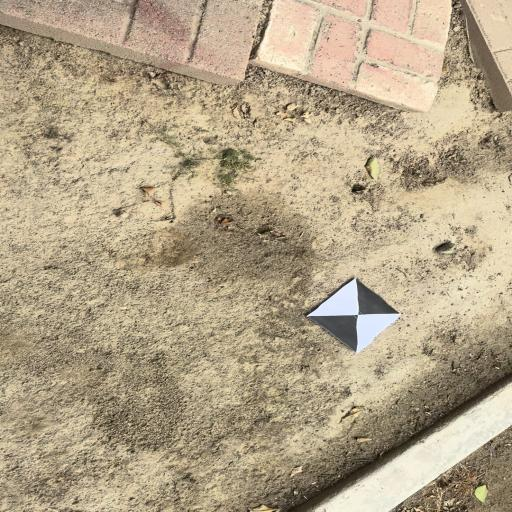target: (306, 279, 401, 353)
